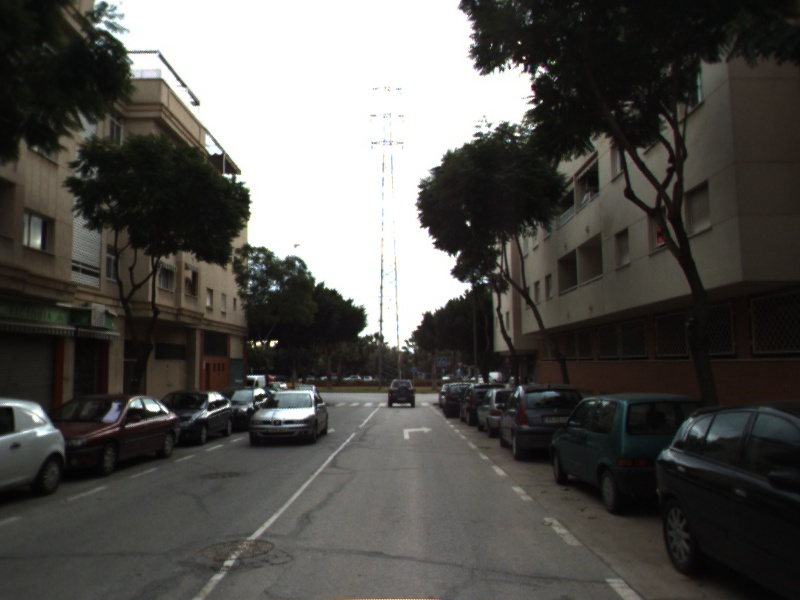RIGHT: (401, 424, 436, 441)
